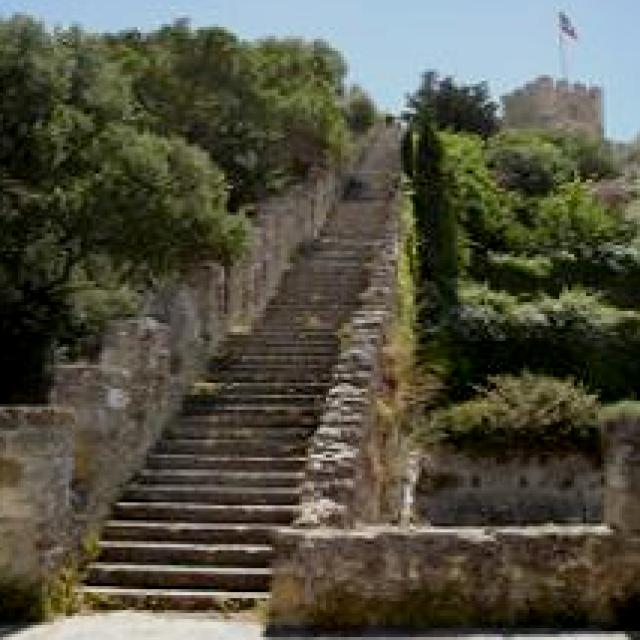upstair: (79, 348, 327, 626)
